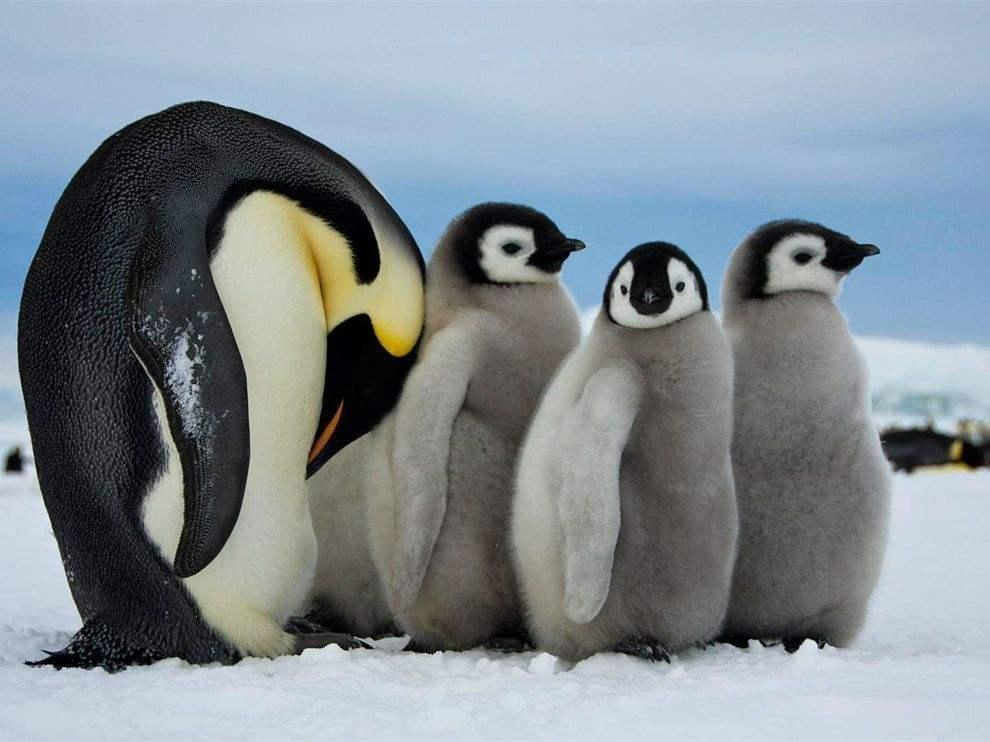Penguin: (19, 102, 423, 667), (367, 203, 581, 650), (512, 242, 736, 659), (723, 218, 891, 649), (288, 426, 408, 655)
